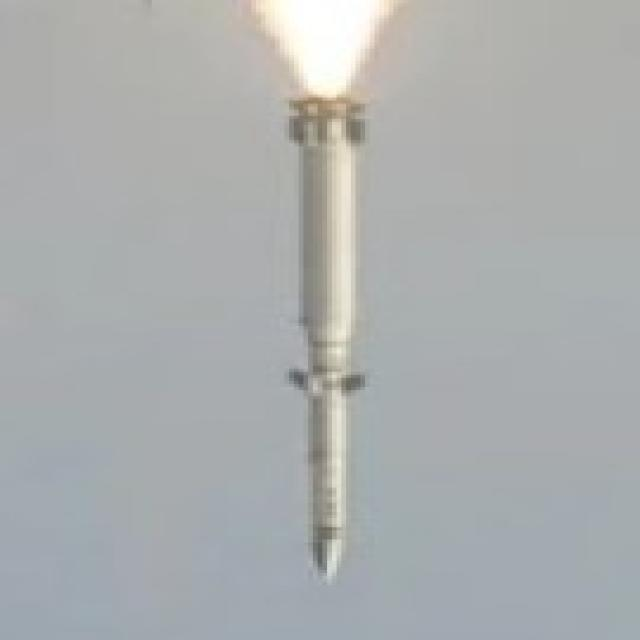missile: (276, 98, 374, 578)
